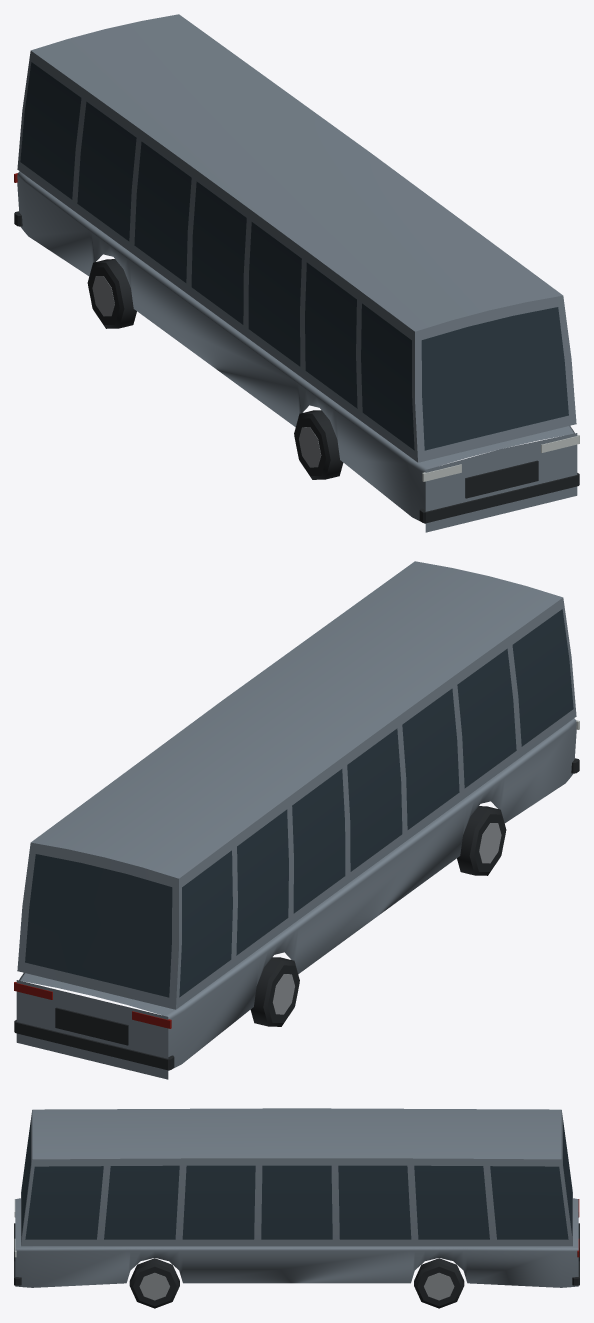
The model's file is bus_far.glb.
The picture shows the model from 3 angles, top to bottom: view 1: azimuth 30°, elevation 25°; view 2: azimuth 150°, elevation 25°; view 3: azimuth 270°, elevation 25°; orthographic projection. The views are drawn at different scales.
Visible parts, largest first — view 1: paint-body, glass-body, rubber-wheel-front-left (×2), rubber-body, alloy-wheel-front-left (×2), headlamp-body; view 2: paint-body, glass-body, rubber-wheel-front-left (×2), rubber-body, alloy-wheel-front-left (×2), taillamp-body; view 3: paint-body, glass-body, rubber-wheel-front-left (×2), alloy-wheel-front-left (×2), rubber-body.
Part boxes in pixels (left/top/right/bottom): paint-body: left=17, top=14, right=577, bottom=532; glass-body: left=20, top=62, right=568, bottom=450; rubber-wheel-front-left (×2): left=87, top=259, right=343, bottom=479; rubber-body: left=14, top=211, right=579, bottom=523; alloy-wheel-front-left (×2): left=92, top=276, right=321, bottom=467; headlamp-body: left=422, top=435, right=579, bottom=481; paint-body: left=16, top=561, right=576, bottom=1079; glass-body: left=25, top=609, right=573, bottom=997; rubber-wheel-front-left (×2): left=250, top=806, right=506, bottom=1026; rubber-body: left=14, top=758, right=579, bottom=1070; alloy-wheel-front-left (×2): left=272, top=823, right=501, bottom=1014; taillamp-body: left=14, top=982, right=171, bottom=1028; paint-body: left=15, top=1108, right=578, bottom=1287; glass-body: left=21, top=1120, right=572, bottom=1239; rubber-wheel-front-left (×2): left=129, top=1258, right=464, bottom=1308; alloy-wheel-front-left (×2): left=139, top=1272, right=454, bottom=1300; rubber-body: left=14, top=1223, right=579, bottom=1285.
Bounding box in the file's own units: 2.68 × 3.05 × 10.55.
